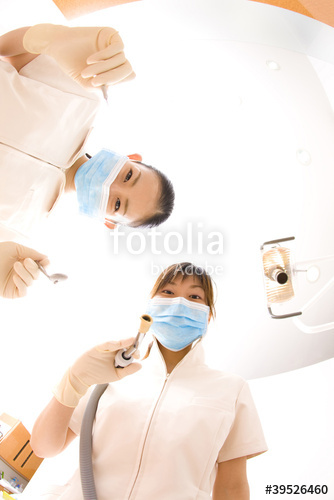mask: (72, 150, 120, 222), (148, 296, 209, 352)
